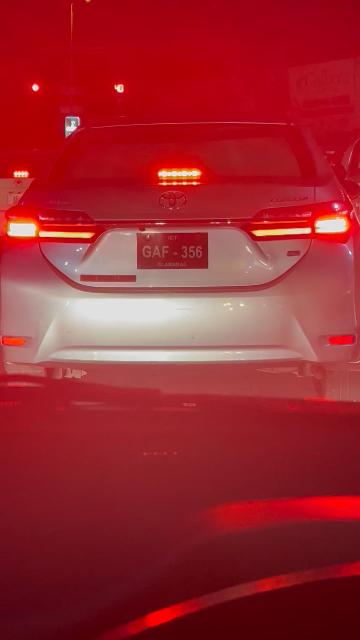plate: (135, 232, 207, 270)
